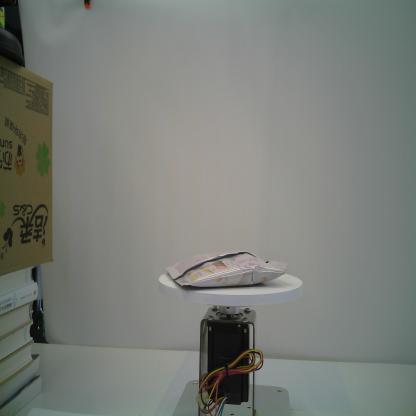Instant Drink: (163, 248, 290, 289)
